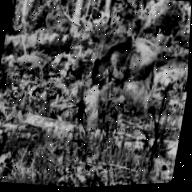boar: (79, 27, 173, 94)
